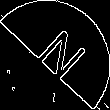N_SW: (24, 23, 86, 87)
